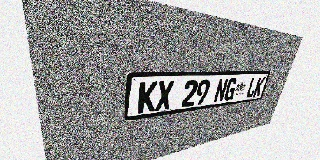2: (181, 80, 199, 107)
9: (194, 79, 211, 105)
G: (223, 78, 238, 101)
K: (137, 81, 158, 114), (253, 77, 266, 97)
L: (245, 77, 259, 98)
N: (213, 78, 229, 103)
X: (155, 81, 174, 111)
